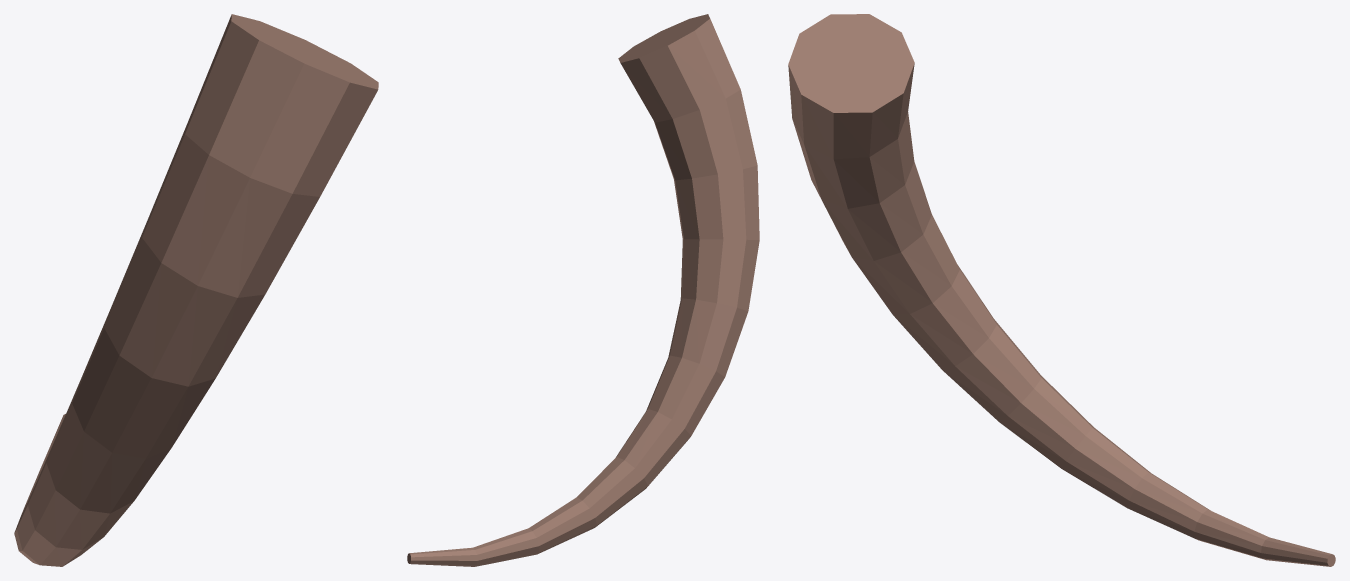
Rendered from gazer_lower_l_original_01.glb.
The picture shows the model from 3 angles, left to right: view 1: azimuth 30°, elevation 25°; view 2: azimuth 150°, elevation 25°; view 3: azimuth 270°, elevation 25°; orthographic projection. The views are drawn at different scales.
Parts seen in each view (by area): view 1: G0_LowerL; view 2: G0_LowerL; view 3: G0_LowerL.
Boxes of the visible parts, x1,y1,x2,y2 form: G0_LowerL: (14,14,378,566); G0_LowerL: (407,14,759,566); G0_LowerL: (788,14,1335,566).
Bounding box in the file's own units: 0.2148 × 0.5185 × 0.5018.
